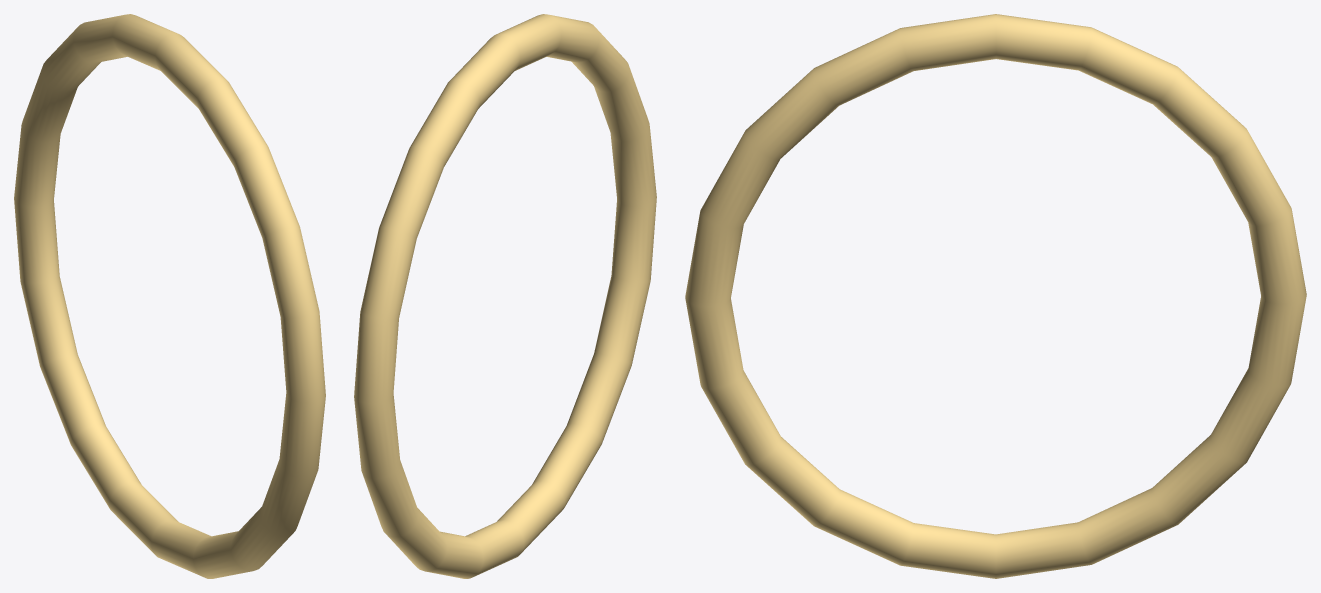
The model's file is Noserings.glb.
3 renders of one model, left to right at view 1: azimuth 30°, elevation 25°; view 2: azimuth 150°, elevation 25°; view 3: azimuth 270°, elevation 25°, orthographic. The views are drawn at different scales.
Visible parts, largest first — view 1: Modern Circular Earring with Bold Bead; view 2: Modern Circular Earring with Bold Bead; view 3: Modern Circular Earring with Bold Bead.
Boxes of the visible parts, x1,y1,x2,y2 form: Modern Circular Earring with Bold Bead: (14, 14, 325, 578); Modern Circular Earring with Bold Bead: (354, 14, 656, 578); Modern Circular Earring with Bold Bead: (685, 14, 1306, 578).
Bounding box in the file's own units: 0.00642 × 0.0819 × 0.0819.
Materials: 1 (1 with a texture image).
